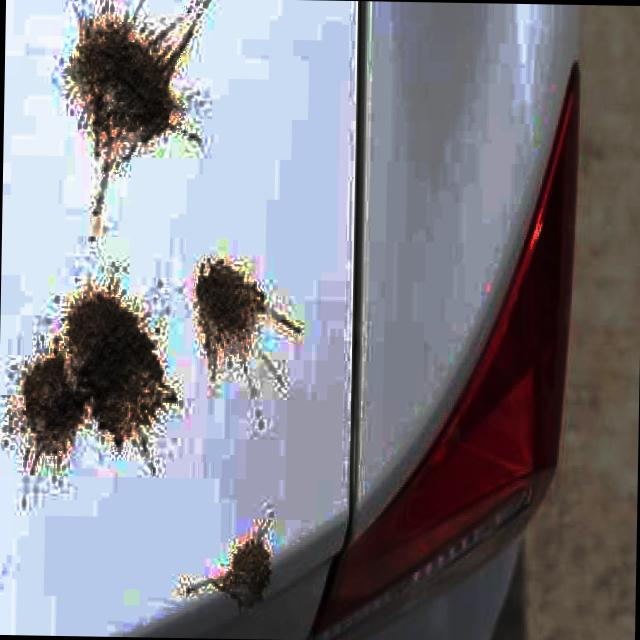Bird Poop: (71, 10, 200, 241), (21, 290, 177, 471), (197, 258, 301, 432), (186, 512, 273, 609)
